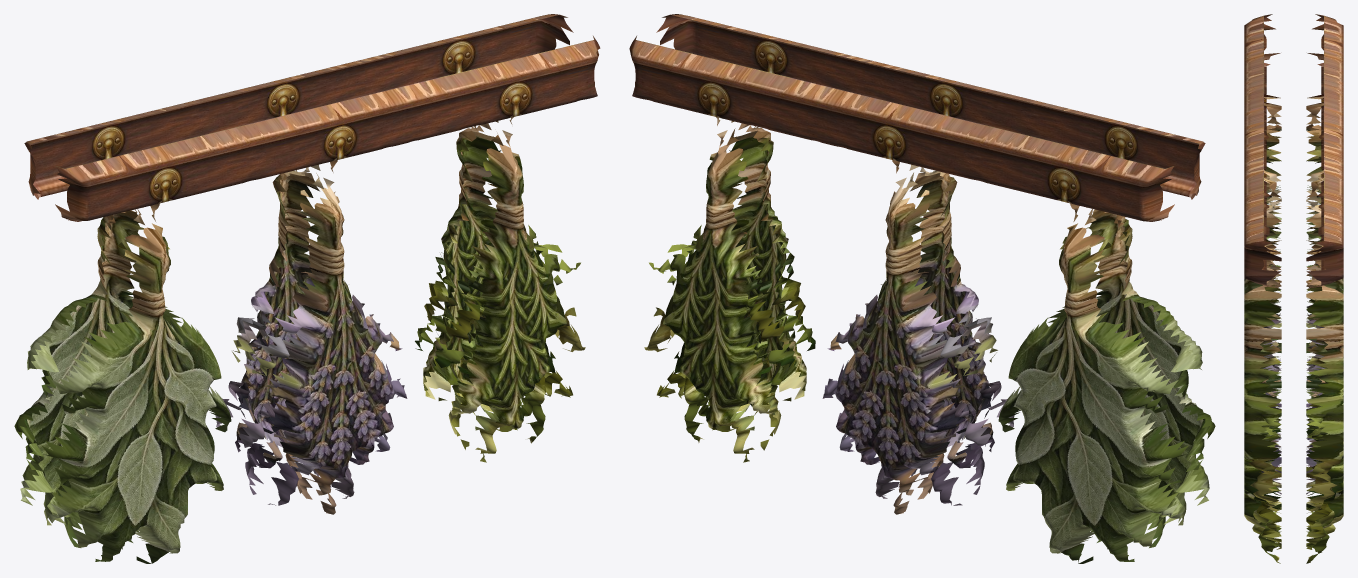
Rendered from v4-alchemist-scatter-dress-herb-bundles.glb.
3 views of the same model, side by side, from view 1: azimuth 30°, elevation 25°; view 2: azimuth 150°, elevation 25°; view 3: azimuth 270°, elevation 25° (orthographic). The views are drawn at different scales.
Parts seen in each view (by area): view 1: v4-alchemist-scatter-dress-herb-bundles; view 2: v4-alchemist-scatter-dress-herb-bundles; view 3: v4-alchemist-scatter-dress-herb-bundles.
Part boxes in pixels (x1,y1,x2,y2): v4-alchemist-scatter-dress-herb-bundles: (14,14,600,563); v4-alchemist-scatter-dress-herb-bundles: (629,14,1215,563); v4-alchemist-scatter-dress-herb-bundles: (1244,14,1343,563).
Bounding box in the file's own units: 1.33 × 0.973 × 0.24.
Materials: 1 (1 with a texture image).
